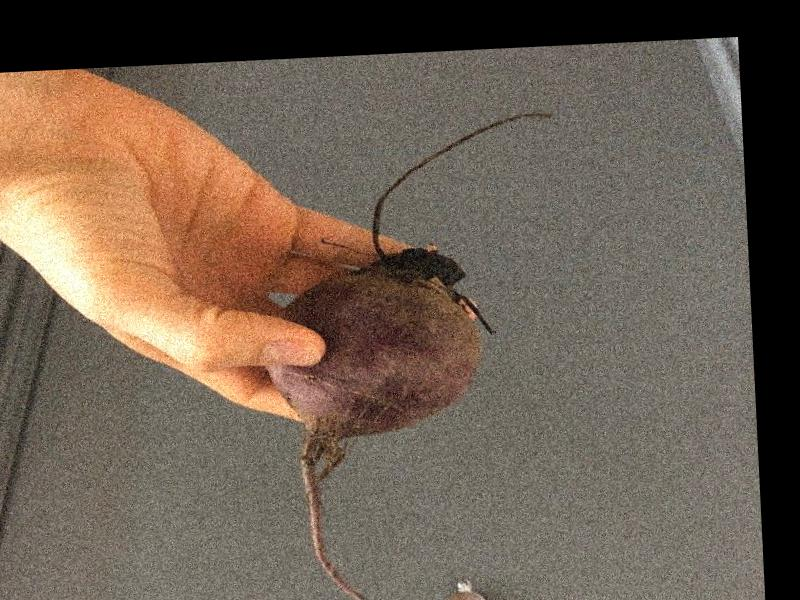Beet: (254, 111, 579, 600)
